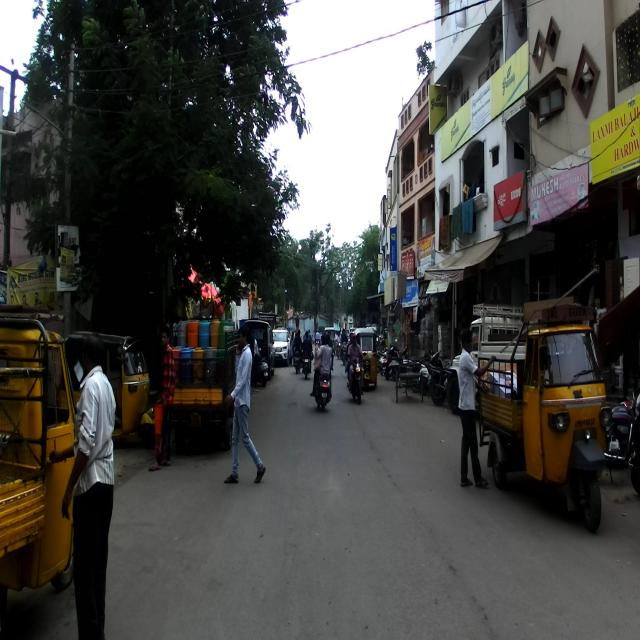Car_Hyundai: (269, 326, 291, 367)
autorickshaw: (476, 298, 609, 532), (0, 299, 78, 618), (64, 329, 156, 448), (164, 316, 240, 451)
motorcycle_Hero: (605, 380, 640, 480)
motorcycle_Honda: (347, 349, 366, 403)
scooter: (313, 359, 333, 412)
